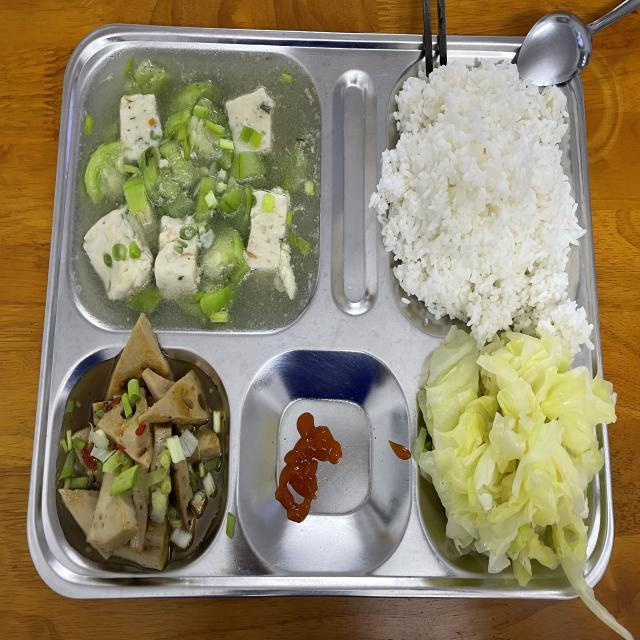bap cai luoc: (413, 326, 632, 638)
canh bau: (67, 47, 322, 332)
com: (370, 61, 592, 351)
